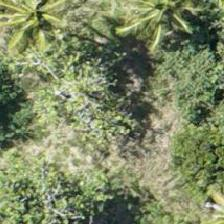coconut_tree: (123, 0, 213, 59), (0, 0, 64, 52)
